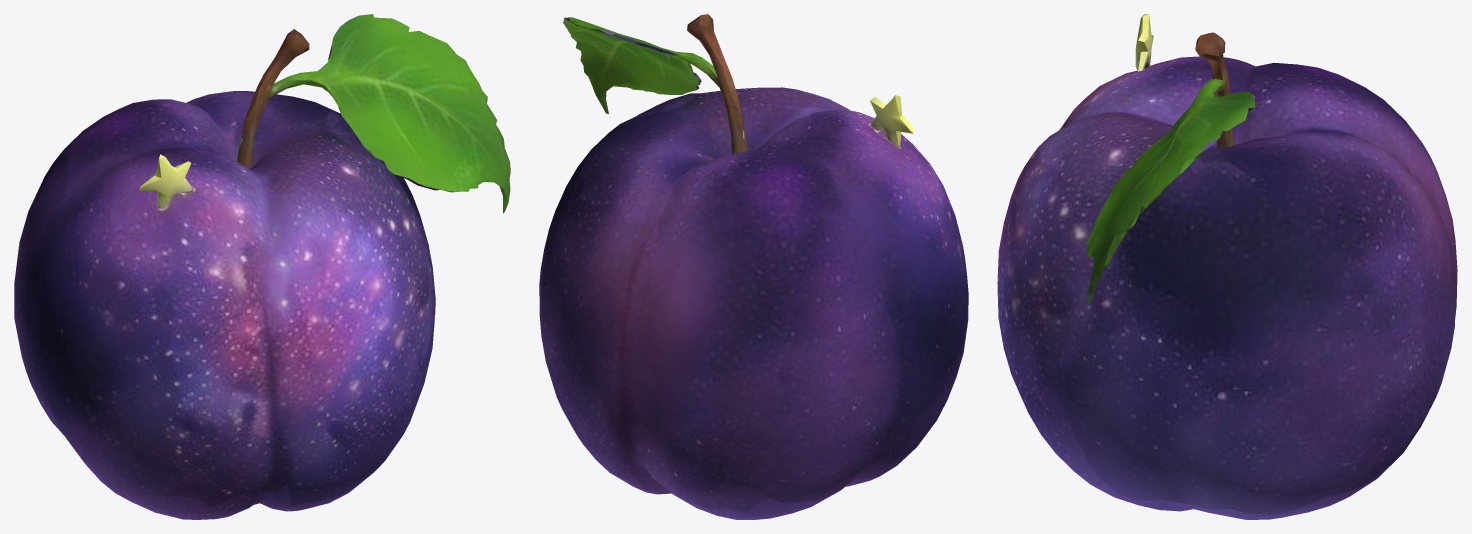
The model's file is star_plum.glb.
3 views of the same model, side by side, from view 1: azimuth 30°, elevation 25°; view 2: azimuth 150°, elevation 25°; view 3: azimuth 270°, elevation 25° (orthographic). The views are drawn at different scales.
Parts seen in each view (by area): view 1: star_plum; view 2: star_plum; view 3: star_plum.
Part boxes in pixels (x1,y1,x2,y2): star_plum: (14, 14, 510, 519); star_plum: (539, 14, 968, 519); star_plum: (997, 14, 1457, 519).
Bounding box in the file's own units: 0.964 × 1 × 0.8738.
1 material, 1 textured.
